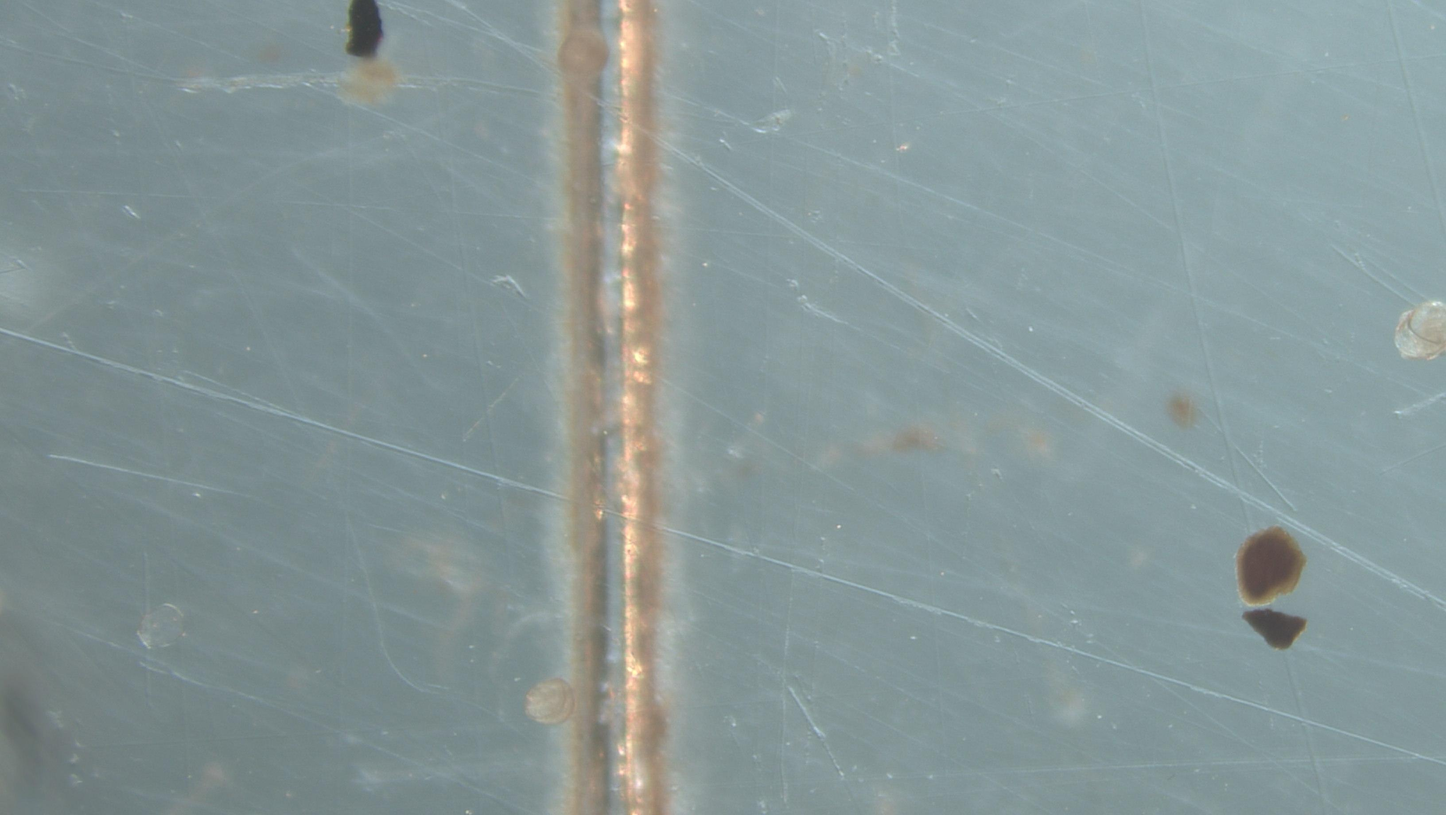dead: (1394, 301, 1446, 360)
live: (1236, 526, 1307, 607)
